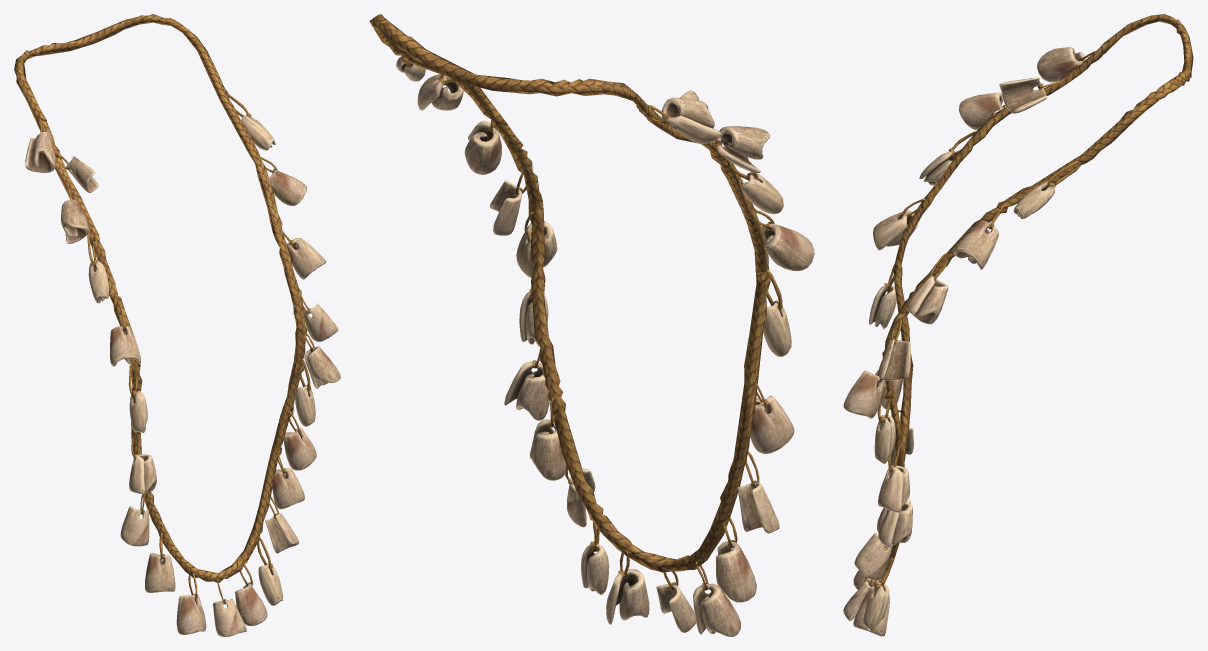
File: SM_CollarConcha01.glb
3 views of the same model, side by side, from view 1: azimuth 30°, elevation 25°; view 2: azimuth 150°, elevation 25°; view 3: azimuth 270°, elevation 25° (orthographic). The views are drawn at different scales.
Visible parts, largest first — view 1: CC01_Cuerda_Low, CC01_Position.010_ignor, CC01_Position.011_ignor, CC01_Position.007_ignor, CC01_Position.008_ignor, CC01_Position.012_ignor, CC01_Position.014_ignor, CC01_Position.009_ignor, CC01_Position.013_ignor, CC01_Position.004_ignor, CC01_Position.005_ignor, CC01_Position.019_ignor (+11 smaller); view 2: CC01_Cuerda_Low, CC01_Position.011_ignor, CC01_Position.010_ignor, CC01_Position.014_ignor, CC01_Position.012_ignor, CC01_Position.013_ignor, CC01_Position.009_ignor, CC01_Position.015_ignor, CC01_Position.007_ignor, CC01_Position.019_ignor, CC01_Position.008_ignor, CC01_Position.004_ignor (+9 smaller); view 3: CC01_Cuerda_Low, CC01_Position.004_ignor, CC01_Position.002_ignor, CC01_Position.005_ignor, CC01_Position.006_ignor, CC01_Position.007_ignor, CC01_Position.016_ignor, CC01_Position.014_ignor, CC01_Position.015_ignor, CC01_Position.017_ignor, CC01_Position.008_ignor, CC01_Position.013_ignor (+7 smaller).
Boxes of the visible parts, <box> form: CC01_Cuerda_Low: <box>14,14,307,582</box>; CC01_Position.010_ignor: <box>176,572,206,634</box>; CC01_Position.011_ignor: <box>145,533,175,592</box>; CC01_Position.007_ignor: <box>283,411,316,470</box>; CC01_Position.008_ignor: <box>272,454,304,509</box>; CC01_Position.012_ignor: <box>129,434,156,494</box>; CC01_Position.014_ignor: <box>25,120,55,172</box>; CC01_Position.009_ignor: <box>235,564,267,625</box>; CC01_Position.013_ignor: <box>110,303,140,366</box>; CC01_Position.004_ignor: <box>275,222,325,279</box>; CC01_Position.005_ignor: <box>303,333,340,388</box>; CC01_Position.019_ignor: <box>120,492,149,546</box>; CC01_Cuerda_Low: <box>369,14,770,572</box>; CC01_Position.011_ignor: <box>716,517,756,602</box>; CC01_Position.010_ignor: <box>693,561,740,636</box>; CC01_Position.014_ignor: <box>639,97,721,143</box>; CC01_Position.012_ignor: <box>750,383,794,453</box>; CC01_Position.013_ignor: <box>756,210,814,271</box>; CC01_Position.009_ignor: <box>606,550,649,624</box>; CC01_Position.015_ignor: <box>714,126,770,172</box>; CC01_Position.007_ignor: <box>504,344,549,420</box>; CC01_Position.019_ignor: <box>737,451,779,533</box>; CC01_Position.008_ignor: <box>529,397,566,480</box>; CC01_Position.004_ignor: <box>464,114,501,174</box>; CC01_Cuerda_Low: <box>882,14,1193,570</box>; CC01_Position.004_ignor: <box>907,252,948,324</box>; CC01_Position.002_ignor: <box>954,206,1003,269</box>; CC01_Position.005_ignor: <box>843,358,884,418</box>; CC01_Position.006_ignor: <box>999,77,1062,113</box>; CC01_Position.007_ignor: <box>878,444,909,513</box>; CC01_Position.016_ignor: <box>878,313,910,380</box>; CC01_Position.014_ignor: <box>1037,47,1103,82</box>; CC01_Position.015_ignor: <box>959,92,1005,129</box>; CC01_Position.017_ignor: <box>854,533,892,580</box>; CC01_Position.008_ignor: <box>878,501,912,547</box>; CC01_Position.013_ignor: <box>873,198,925,250</box>.
Size of the model in its own units: 0.2603 by 0.5145 by 0.285.
Materials: 1 (1 with a texture image).
